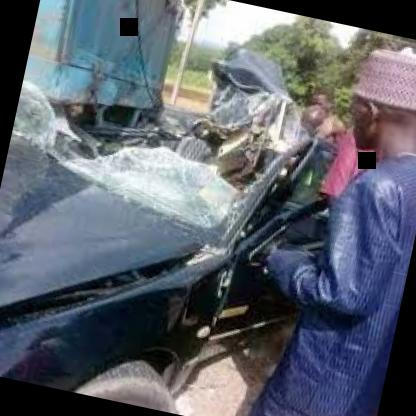accident: (0, 0, 357, 411)
